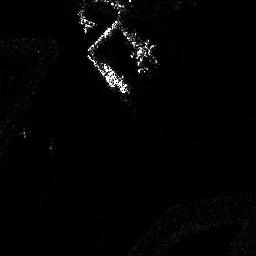ship: (99, 61, 131, 96)
